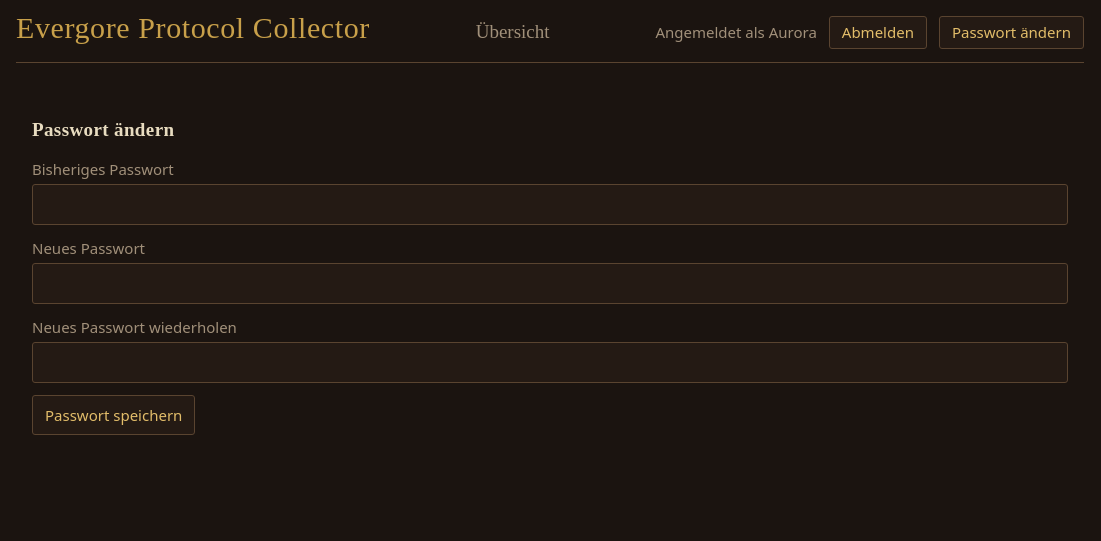
Scenario: App account area › tells the member to wait when the service throttles the change of the password
Type "Sommer-2026!" into the password field labelled "Bisheriges Passwort" at (550, 205), box [32,184,1068,225]
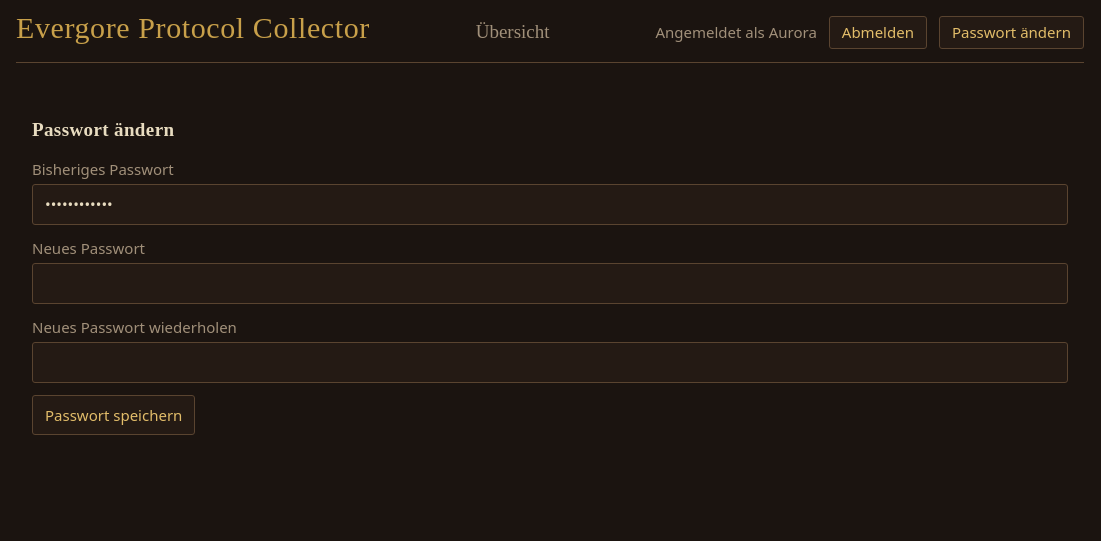
Type "Winter-2026!" into the password field labelled "Neues Passwort" at (550, 284), box [32,263,1068,304]
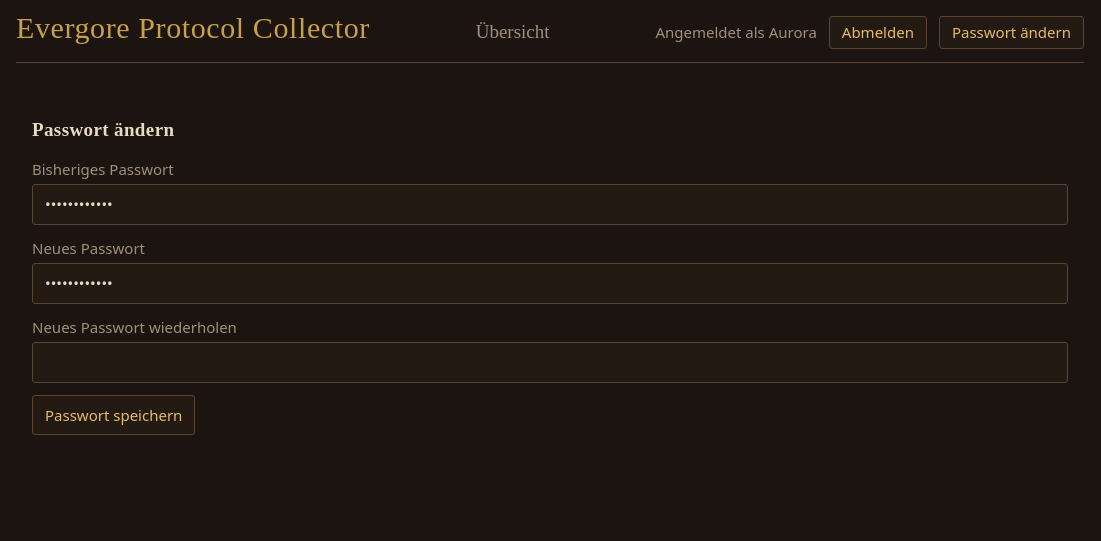
Type "Winter-2026!" into the password field labelled "Neues Passwort wiederholen" at (550, 363), box [32,342,1068,383]
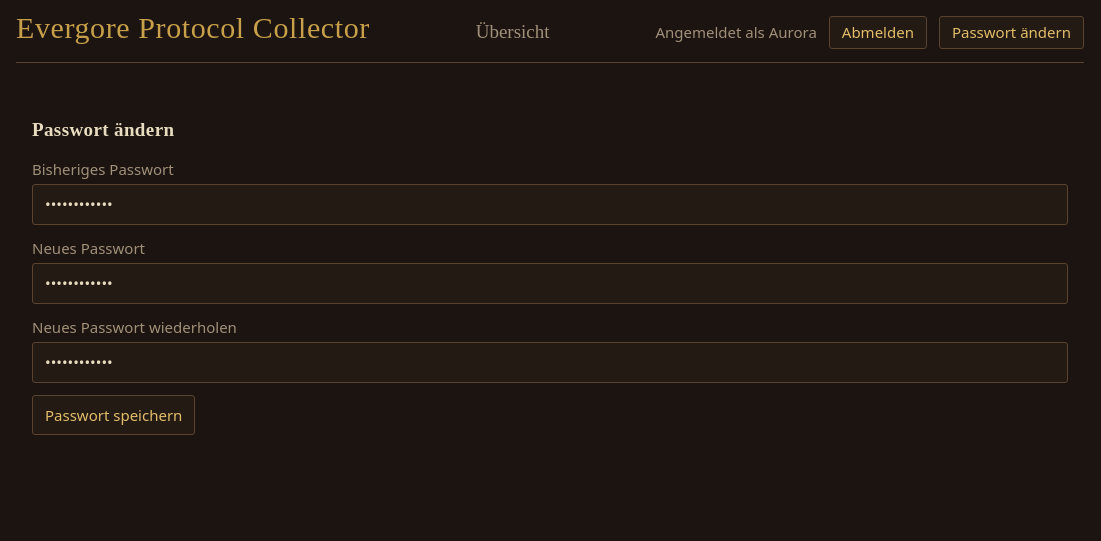
Click the button "Passwort speichern" at (114, 415), box [32,395,195,435]
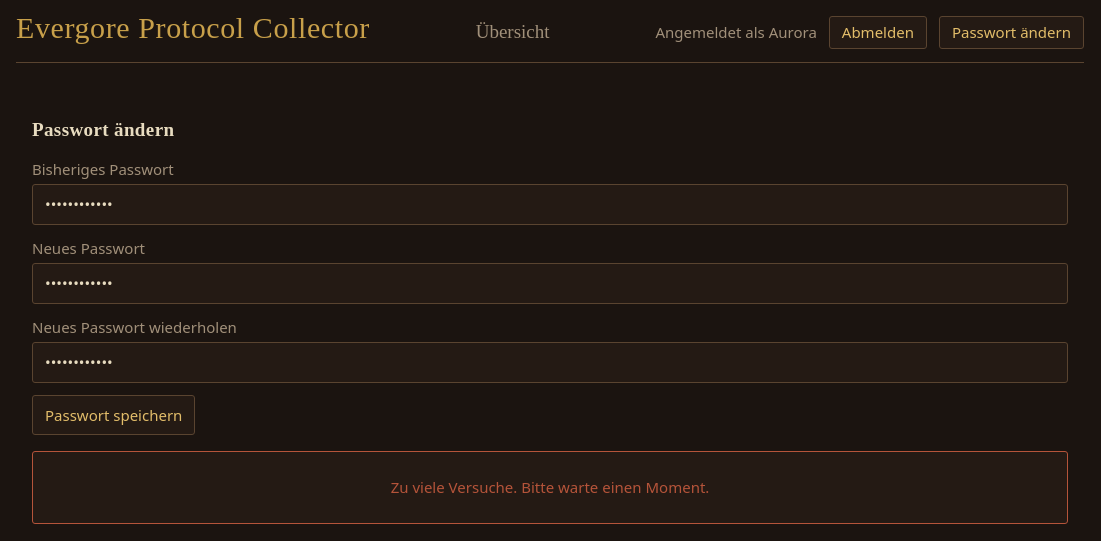
Expected: the elements with test id "status-panel" read "Zu viele Versuche. Bitte warte einen Moment.", in this order, [32,451,1068,524]
